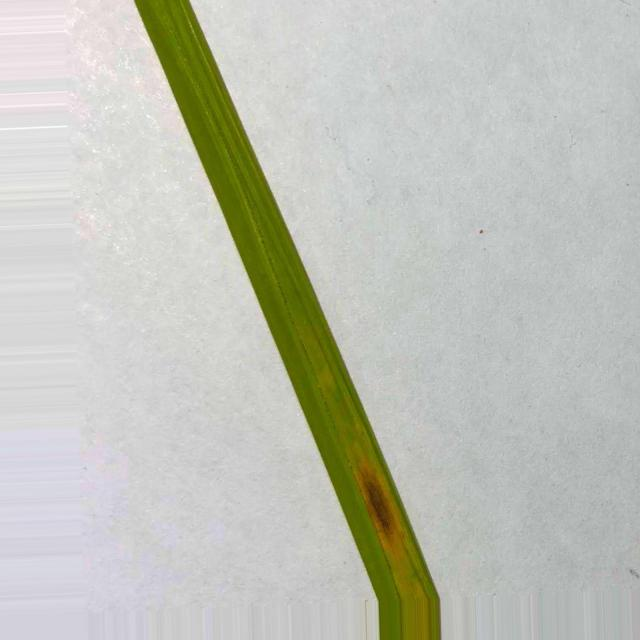Brown_Spot: (356, 471, 389, 527)
